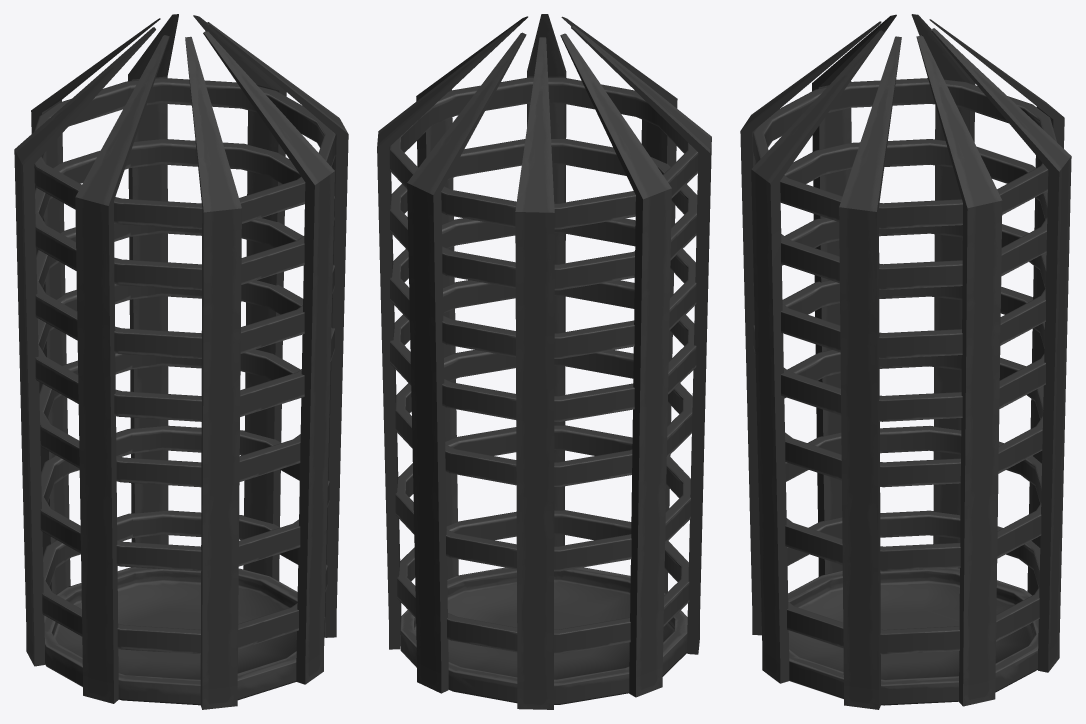
File: prisão.fbx
The picture shows the model from 3 angles, left to right: view 1: azimuth 30°, elevation 25°; view 2: azimuth 150°, elevation 25°; view 3: azimuth 270°, elevation 25°; orthographic projection.
Visible parts, largest first — view 1: Cylinder.000, Cylinder.003, Cylinder.002, Cylinder.004, Cylinder.005, Cylinder.001, Cylinder.013, Cylinder.015, Cylinder.007, Cylinder.012, Cylinder.014, Cylinder.010 (+4 smaller); view 2: Cylinder.006, Cylinder.005, Cylinder.007, Cylinder.004, Cylinder.001, Cylinder.013, Cylinder.014, Cylinder.015, Cylinder.010, Cylinder.012, Cylinder.011, Cylinder.003 (+4 smaller); view 3: Cylinder.009, Cylinder.008, Cylinder.002, Cylinder.004, Cylinder.007, Cylinder.001, Cylinder.013, Cylinder.015, Cylinder.014, Cylinder.012, Cylinder.010, Cylinder.011 (+4 smaller).
Part boxes in pixels (x1,y1,x2,y2): Cylinder.000: (185, 36, 241, 709); Cylinder.003: (75, 35, 169, 703); Cylinder.002: (203, 31, 334, 684); Cylinder.004: (44, 567, 324, 705); Cylinder.005: (14, 27, 155, 666); Cylinder.001: (34, 78, 335, 229); Cylinder.013: (35, 139, 334, 290); Cylinder.015: (40, 425, 329, 571); Cylinder.007: (128, 14, 178, 544); Cylinder.012: (42, 510, 327, 654); Cylinder.014: (35, 280, 334, 421); Cylinder.010: (35, 218, 334, 358); Cylinder.006: (515, 37, 554, 709); Cylinder.005: (560, 33, 671, 697); Cylinder.007: (407, 32, 526, 693); Cylinder.004: (400, 567, 687, 704); Cylinder.001: (390, 77, 698, 229); Cylinder.013: (390, 138, 697, 290); Cylinder.014: (390, 280, 696, 421); Cylinder.015: (395, 425, 690, 571); Cylinder.010: (390, 218, 696, 358); Cylinder.012: (397, 510, 689, 654); Cylinder.011: (395, 350, 692, 486); Cylinder.003: (571, 25, 711, 654); Cylinder.009: (839, 36, 901, 709); Cylinder.008: (916, 35, 1002, 706); Cylinder.002: (751, 30, 884, 683); Cylinder.004: (788, 568, 1038, 705); Cylinder.007: (931, 28, 1071, 672); Cylinder.001: (753, 78, 1056, 228); Cylinder.013: (781, 139, 1047, 289); Cylinder.015: (758, 426, 1041, 571); Cylinder.014: (753, 280, 1045, 421); Cylinder.012: (760, 510, 1040, 654); Cylinder.010: (753, 218, 1046, 358); Cylinder.011: (784, 349, 1043, 487).
Size of the model in its own units: 228 by 471 by 229.
Materials: 3 (3 with a texture image).
